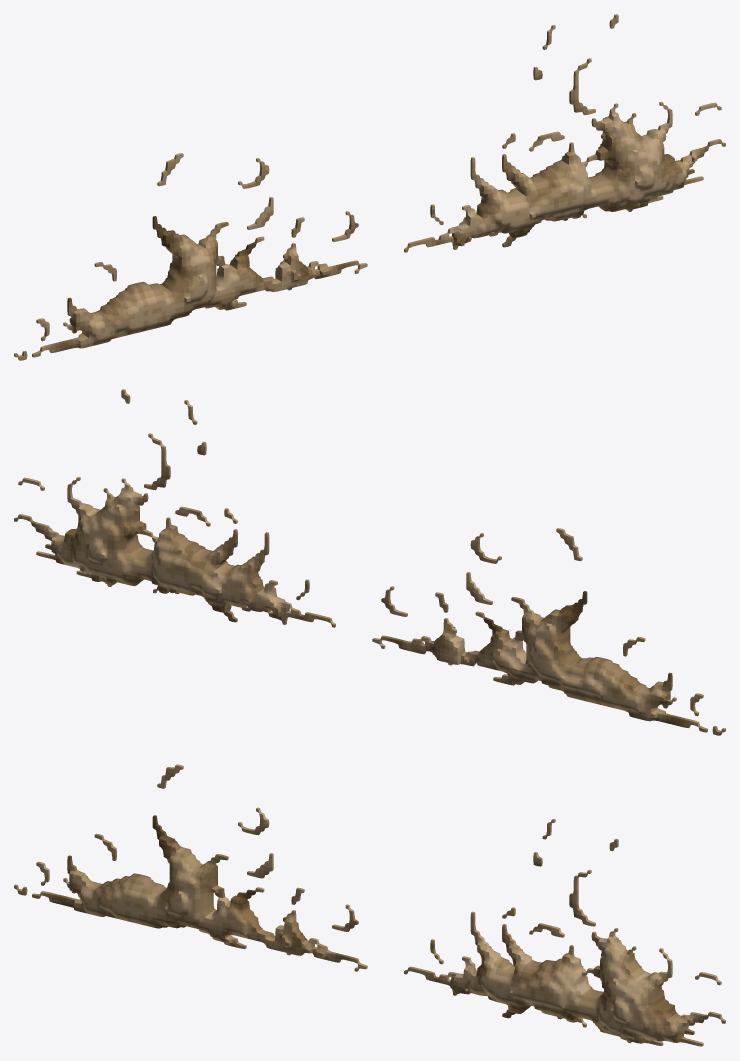
The model's file is Fight_755_2_07.obj.
3 renders of one model, top to bottom at view 1: azimuth 30°, elevation 25°; view 2: azimuth 150°, elevation 25°; view 3: azimuth 330°, elevation 25°, orthographic.
Bounding box in the file's own units: 15.86 × 4.46 × 1.
